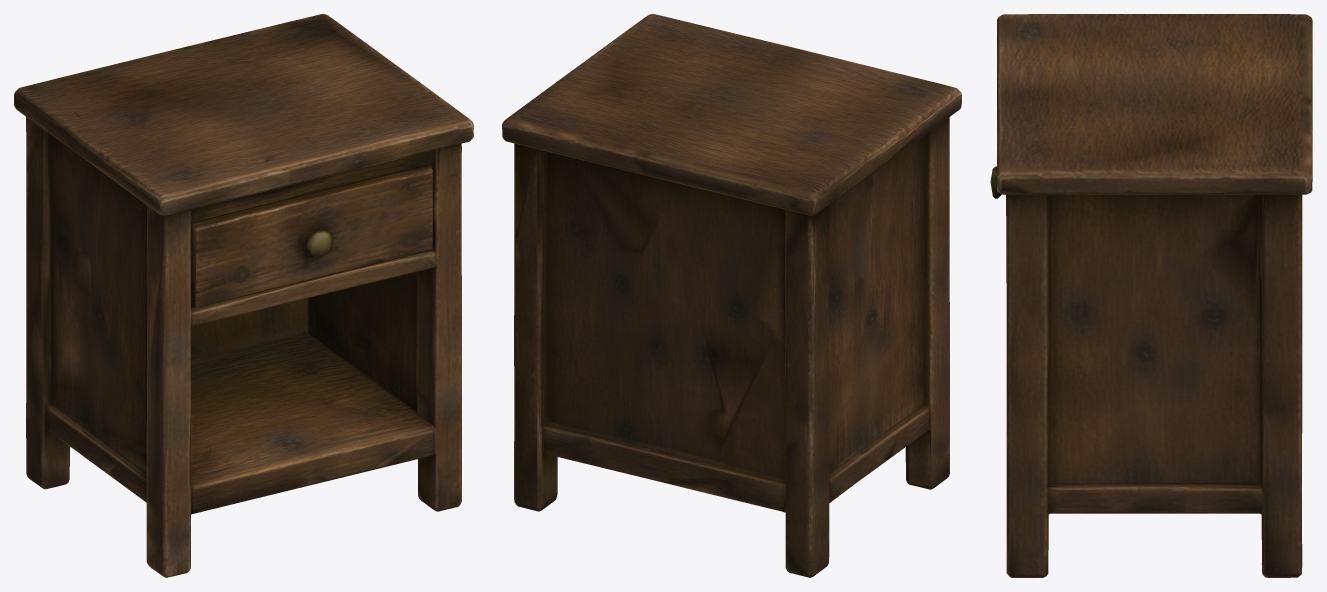
Rendered from Mesita.glb.
The picture shows the model from 3 angles, left to right: view 1: azimuth 30°, elevation 25°; view 2: azimuth 150°, elevation 25°; view 3: azimuth 270°, elevation 25°; orthographic projection. The views are drawn at different scales.
Parts seen in each view (by area): view 1: node_0; view 2: node_0; view 3: node_0.
Boxes of the visible parts, bbox=[...] form: node_0: bbox=[14, 14, 473, 577]; node_0: bbox=[502, 14, 961, 577]; node_0: bbox=[990, 14, 1312, 577].
Size of the model in its own units: 0.6928 by 0.8193 by 0.5837.
1 material, 1 textured.
